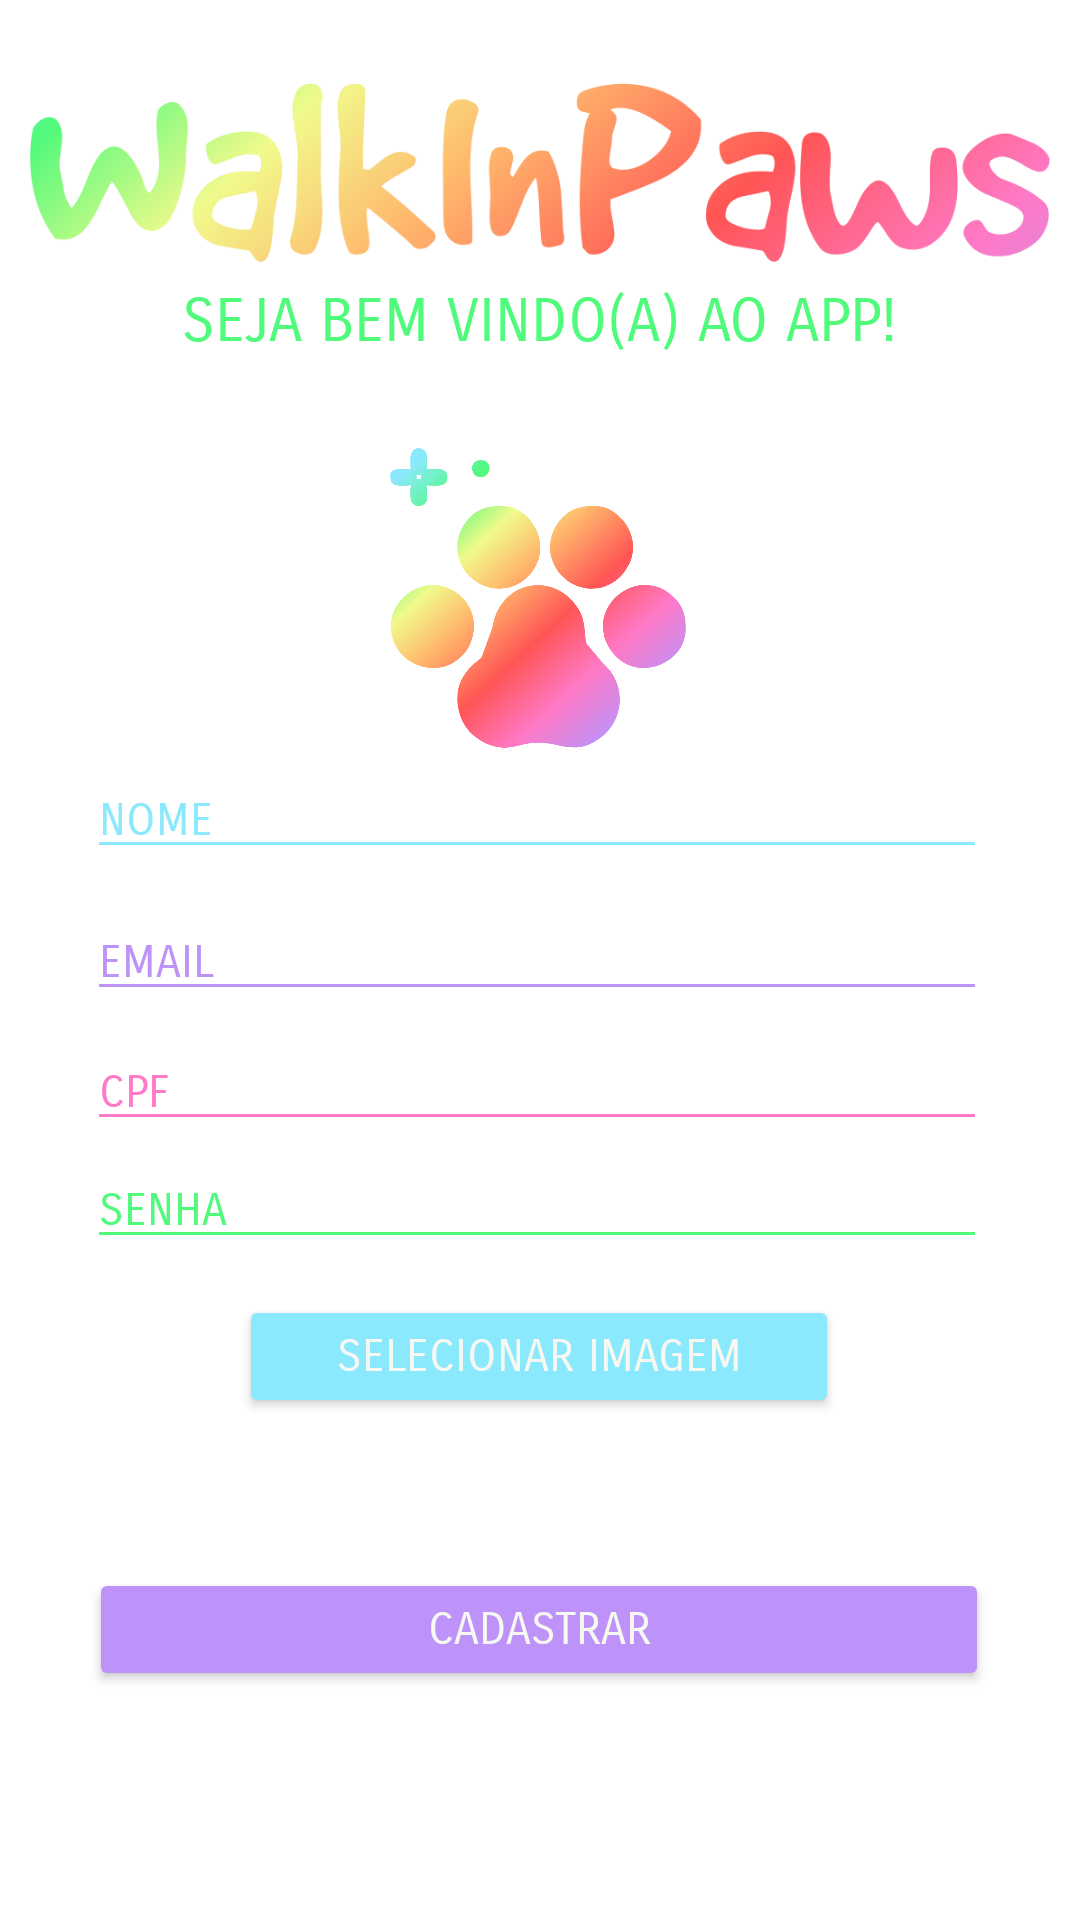

Icons on this 1080x1920 Android screen, each with its box as (x1, y1, x2, y2):
pawcolor: (390, 448, 686, 748)
